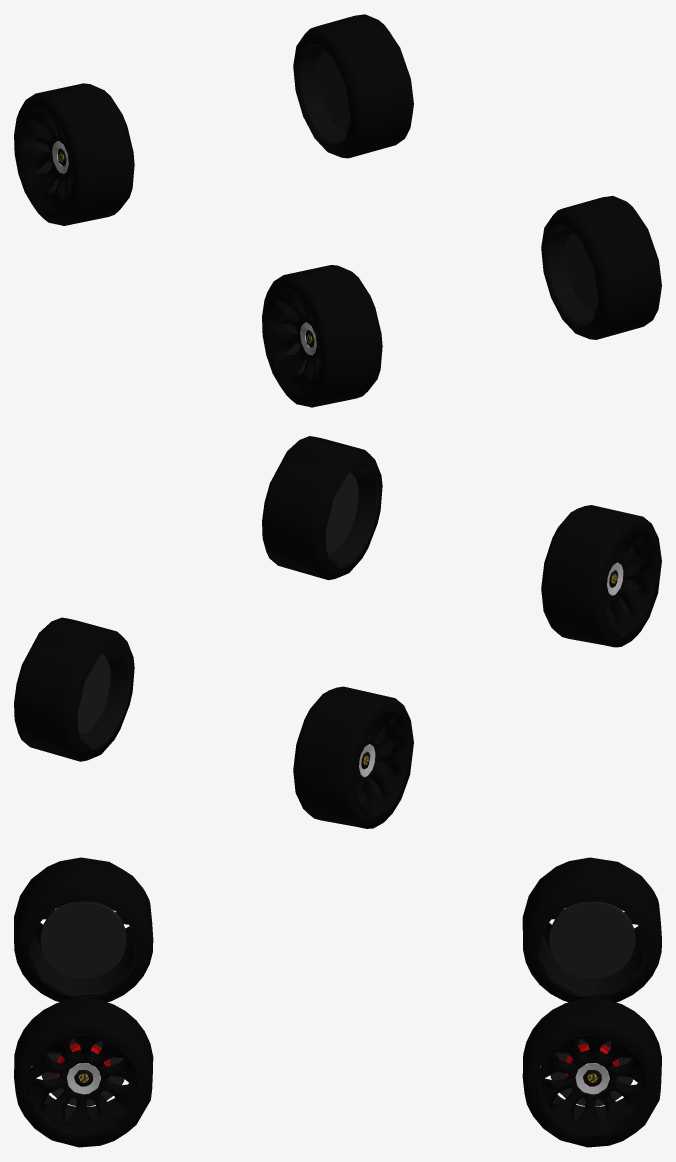
File: car_goblin_lo.glb
3 renders of one model, top to bottom at view 1: azimuth 30°, elevation 25°; view 2: azimuth 150°, elevation 25°; view 3: azimuth 270°, elevation 25°, orthographic. The views are drawn at different scales.
Parts seen in each view (by area): view 1: WheelFrontR, WheelRearR, WheelFrontL, WheelRearL; view 2: WheelFrontR, WheelRearR, WheelRearL, WheelFrontL; view 3: WheelFrontL, WheelRearL, WheelFrontR, WheelRearR.
Boxes of the visible parts, x1,y1,x2,y2 form: WheelFrontR: [262, 265, 382, 407]; WheelRearR: [14, 83, 134, 225]; WheelFrontL: [541, 196, 661, 339]; WheelRearL: [293, 14, 413, 158]; WheelFrontR: [541, 505, 661, 647]; WheelRearR: [293, 686, 413, 828]; WheelRearL: [14, 617, 134, 761]; WheelFrontL: [262, 436, 382, 580]; WheelFrontL: [14, 998, 153, 1147]; WheelRearL: [522, 998, 661, 1147]; WheelFrontR: [14, 857, 153, 1002]; WheelRearR: [522, 857, 661, 1002].
Size of what is drawn, in the model's own units: 2.07 by 0.7234 by 3.32.
2 materials, 1 textured.
